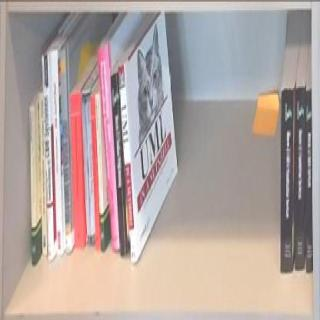book-spine: (97, 46, 124, 253), (118, 64, 137, 264), (109, 70, 129, 258), (41, 55, 55, 264), (59, 49, 72, 254), (280, 88, 294, 273), (51, 50, 63, 255), (70, 90, 84, 248), (294, 87, 306, 271), (89, 96, 101, 253), (304, 87, 313, 274), (95, 92, 105, 252), (38, 92, 47, 257), (81, 97, 91, 245), (86, 97, 96, 243), (29, 104, 37, 265)
